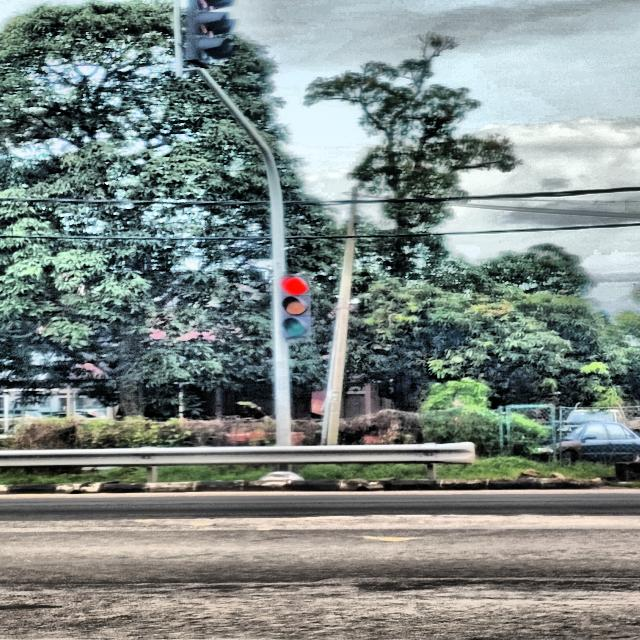red: (282, 276, 313, 338)
